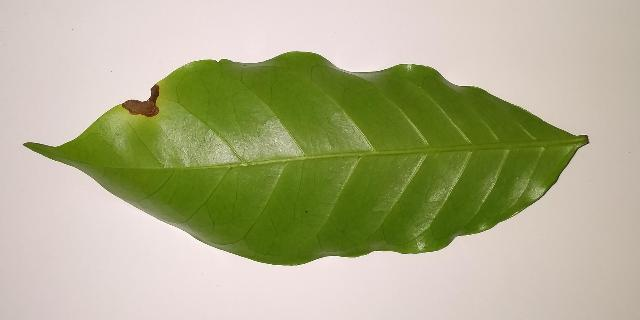rust: (121, 84, 159, 117)
